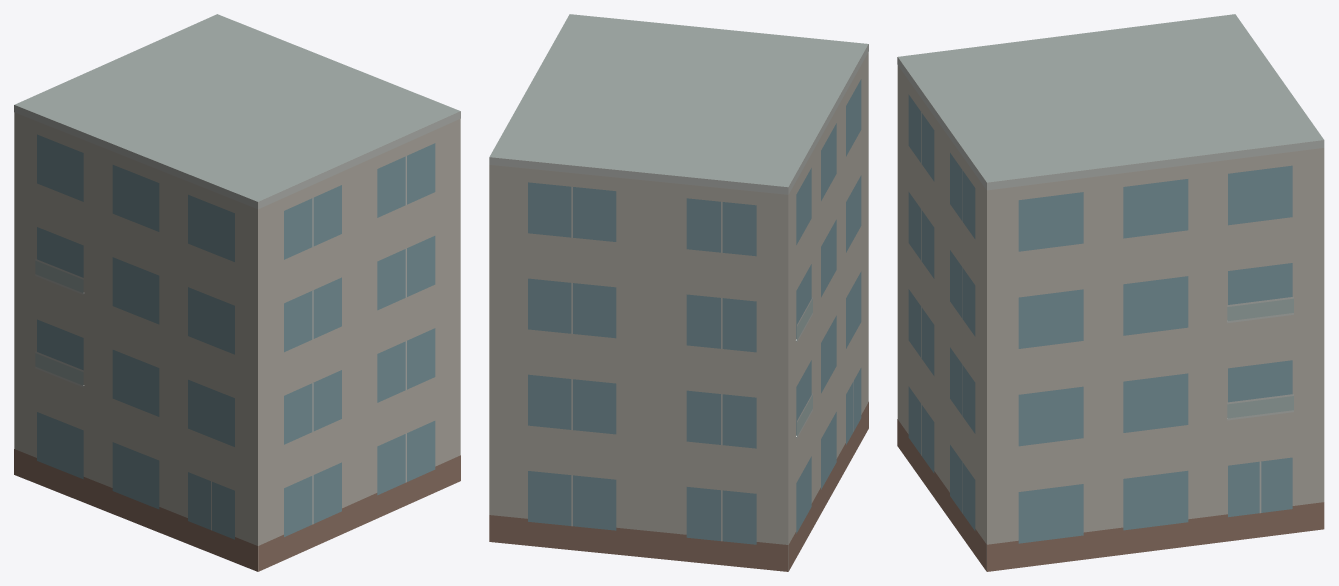
The model's file is residential-aa6fb493-7167-490b-b4fd-8b9d3565af2e.glb.
The picture shows the model from 3 angles, left to right: view 1: azimuth 30°, elevation 25°; view 2: azimuth 150°, elevation 25°; view 3: azimuth 270°, elevation 25°; orthographic projection. The views are drawn at different scales.
Parts seen in each view (by area): view 1: residential-aa6fb493-7167-490b-b4fd-8b9d3565af2e.tmp; view 2: residential-aa6fb493-7167-490b-b4fd-8b9d3565af2e.tmp; view 3: residential-aa6fb493-7167-490b-b4fd-8b9d3565af2e.tmp.
Part boxes in pixels (left/top/right/bottom): residential-aa6fb493-7167-490b-b4fd-8b9d3565af2e.tmp: left=14, top=14, right=460, bottom=571; residential-aa6fb493-7167-490b-b4fd-8b9d3565af2e.tmp: left=489, top=14, right=868, bottom=571; residential-aa6fb493-7167-490b-b4fd-8b9d3565af2e.tmp: left=897, top=14, right=1324, bottom=571.
Size of the model in its own units: 11.35 by 12.2 by 12.13.
